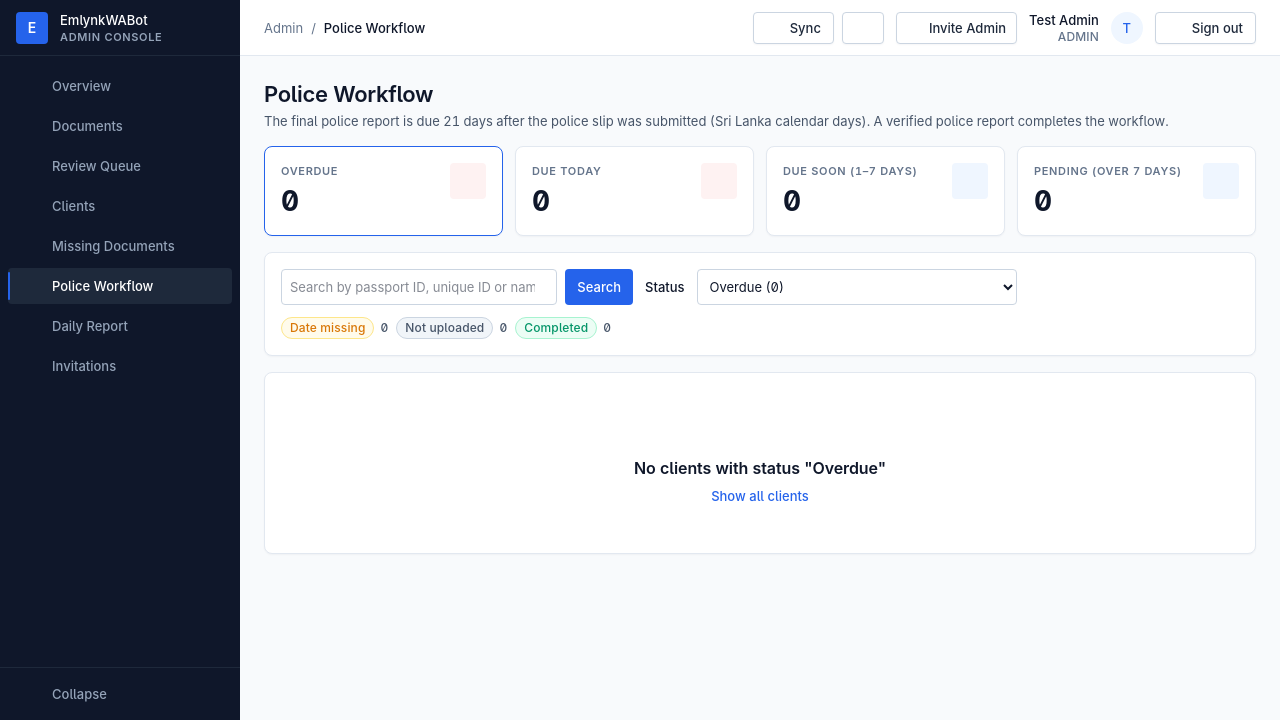
Test: Police Workflow search › the search is sent with the status filter; empty result explains it
The image size is (1280, 720).
Step 1. Type "N0000002" into the search field named "Search clients" → (419, 287), box [281,269,557,305]
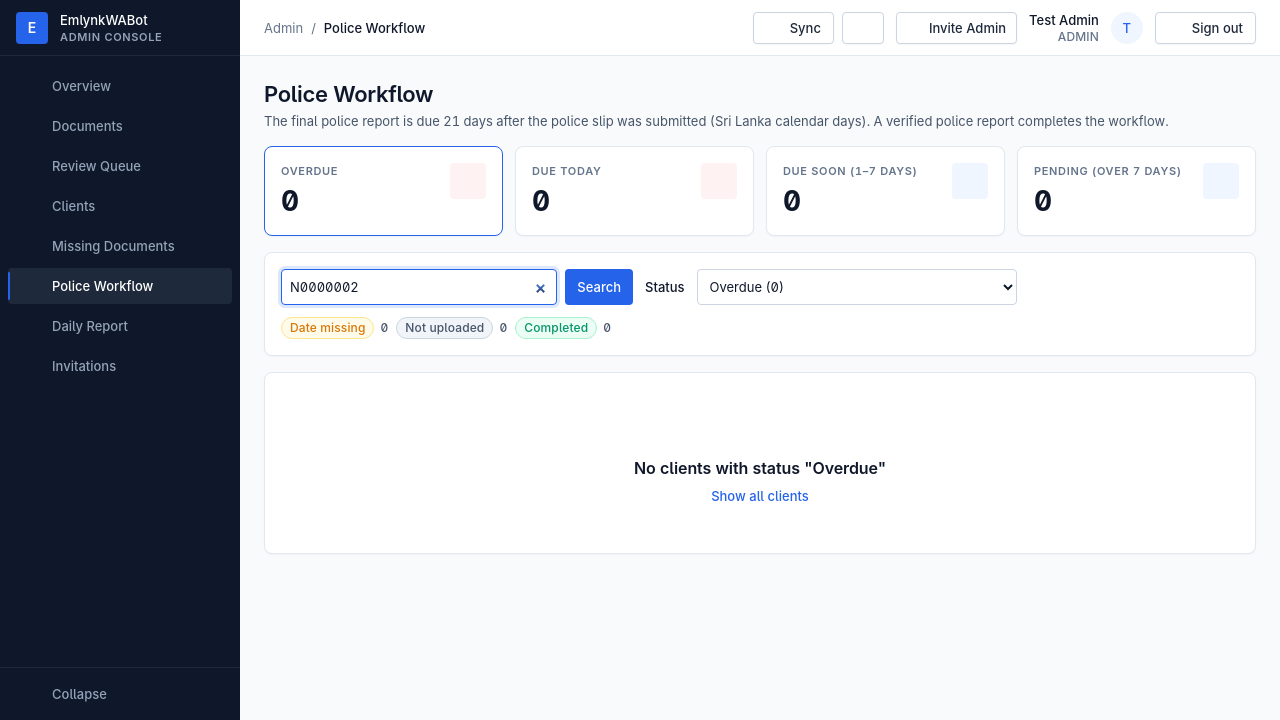
Step 2. Click the button "Search" → (599, 287), box [565,269,633,305]
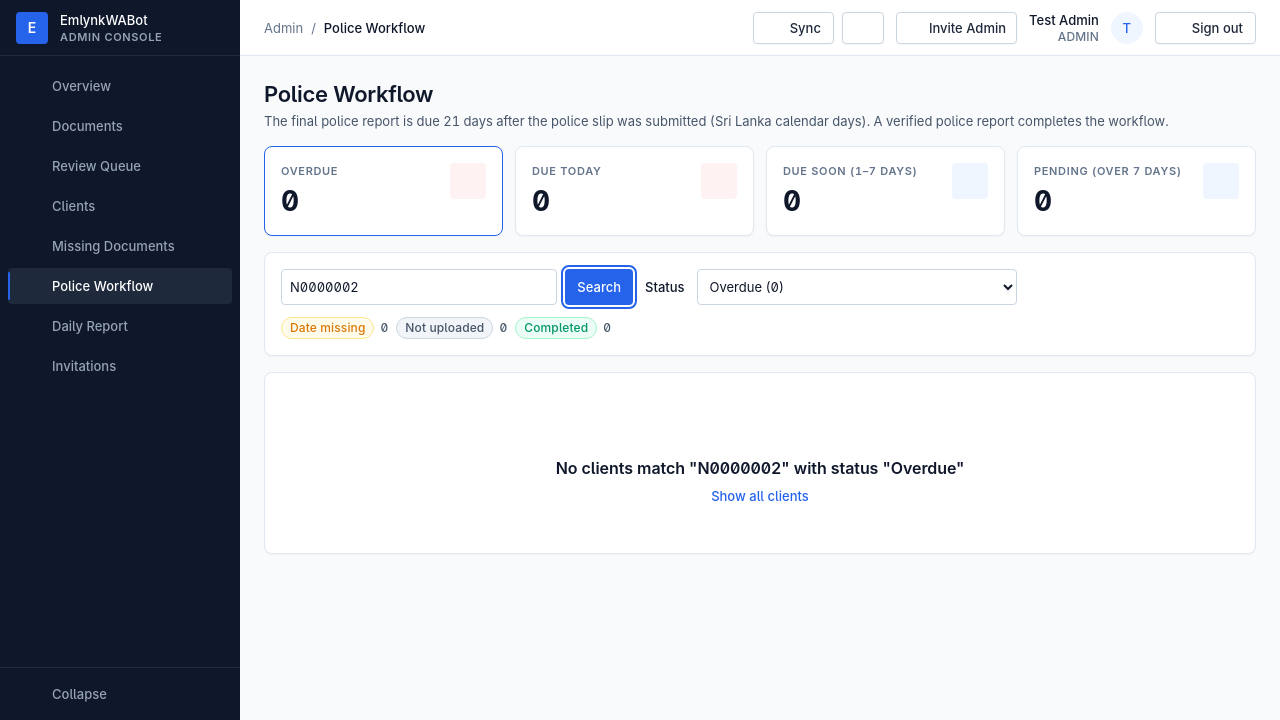
Now the text "No clients match \"N0000002\" with status \"Overdue\"" is shown, box [556,457,964,479]
